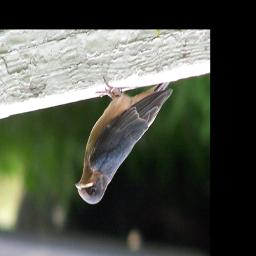Swallow: (74, 74, 174, 205)
